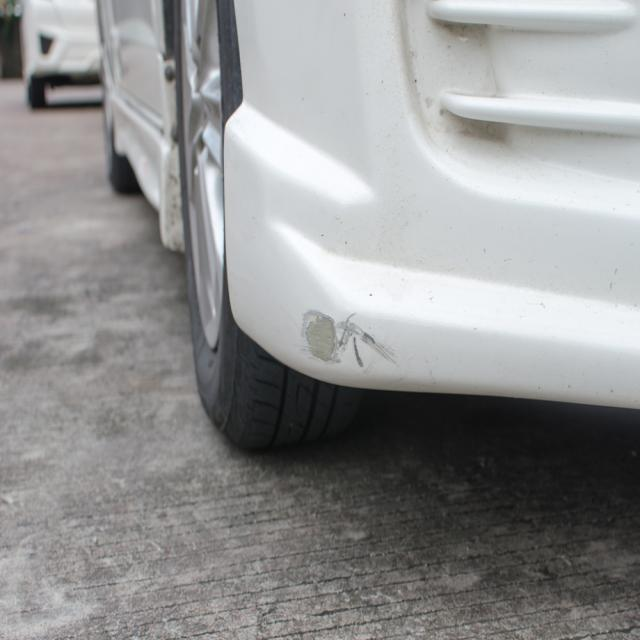scratch: (297, 305, 394, 376)
